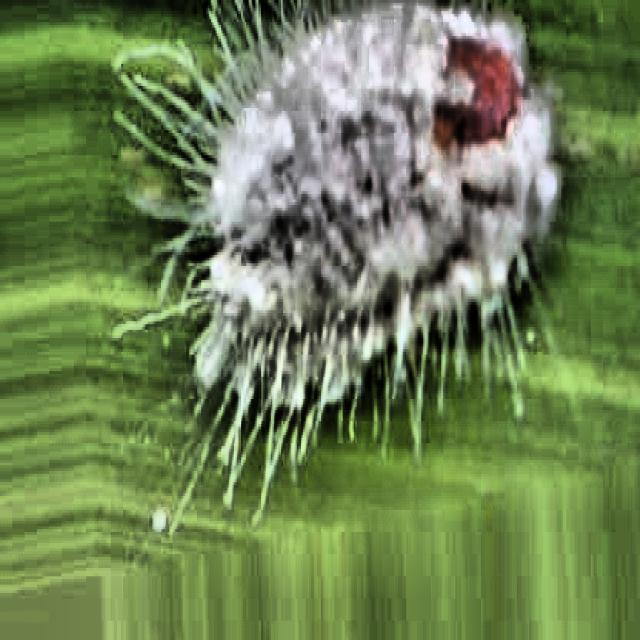Mealy-bug: (133, 0, 574, 476)
